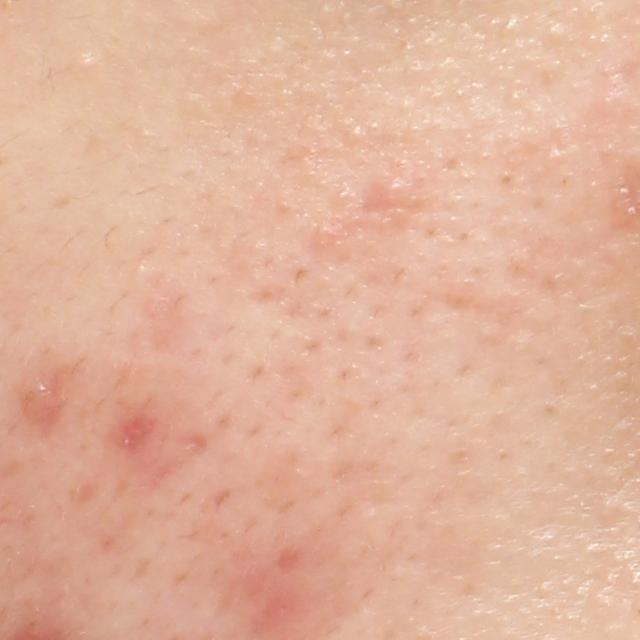comedo: (75, 52, 93, 72)
